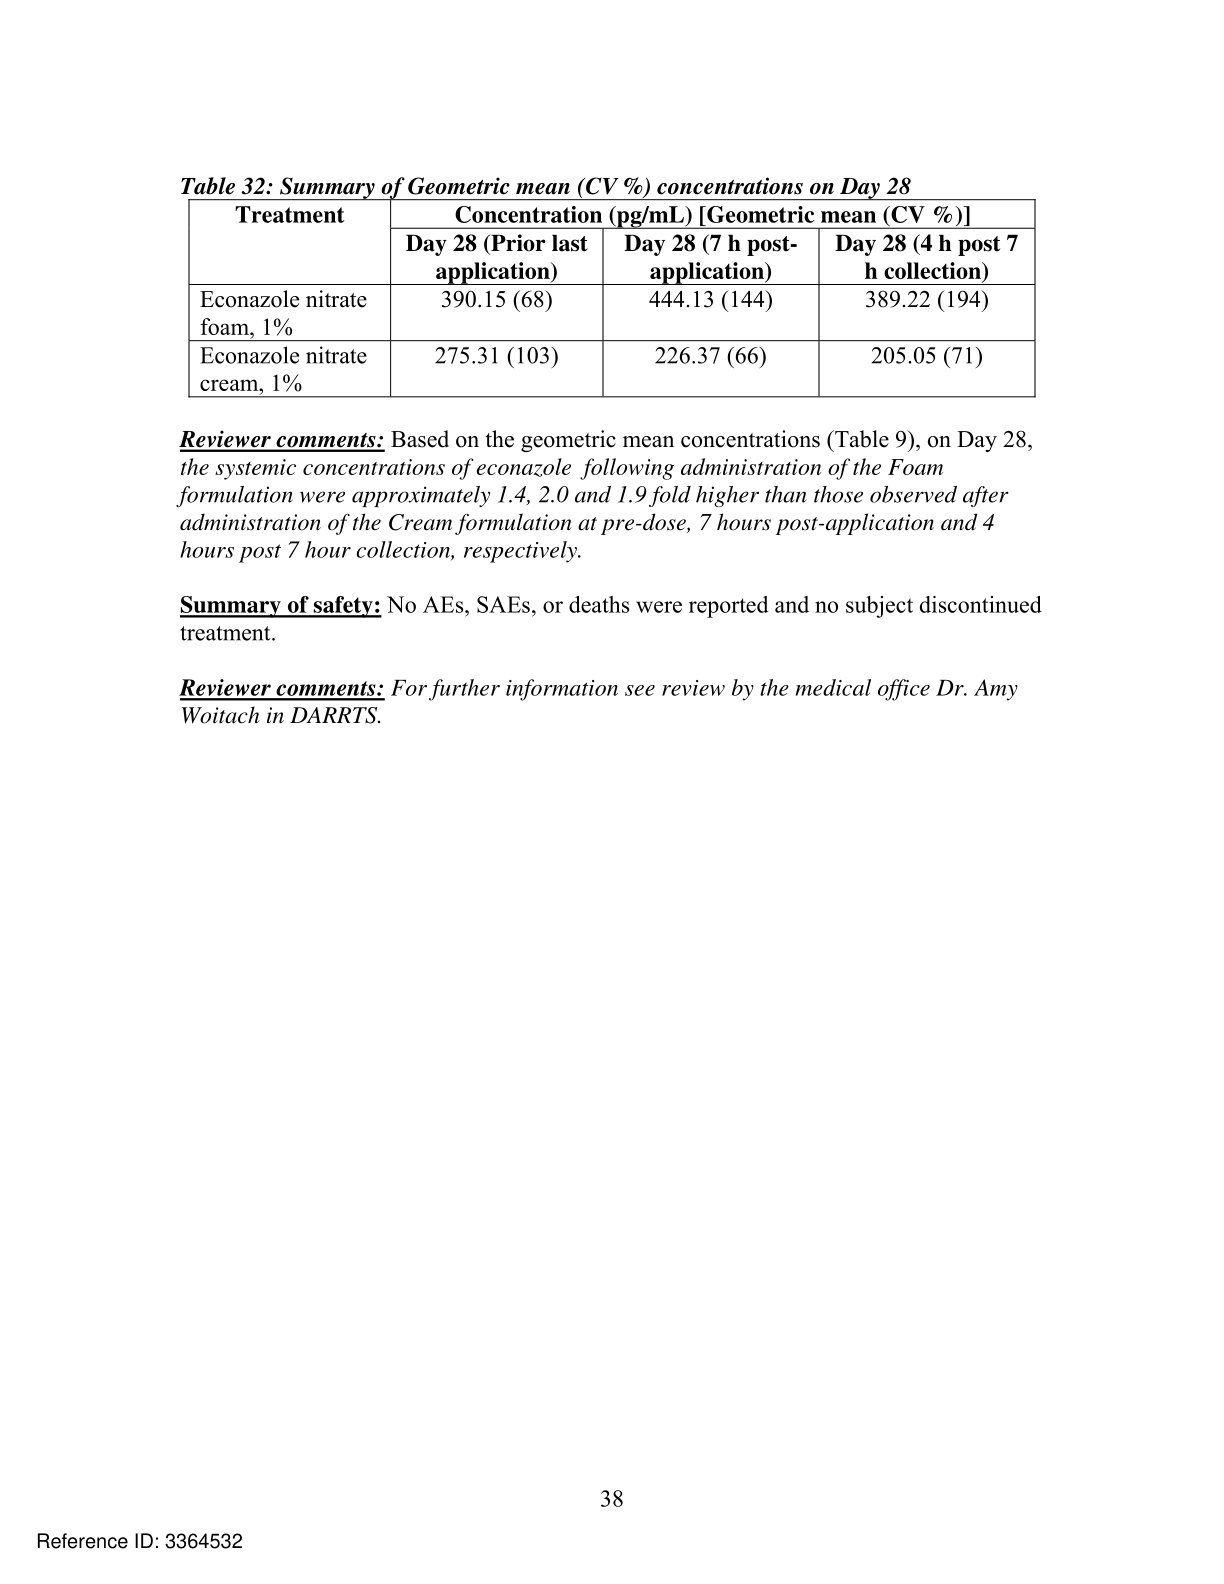merged_cells: (188, 198, 1036, 399)
